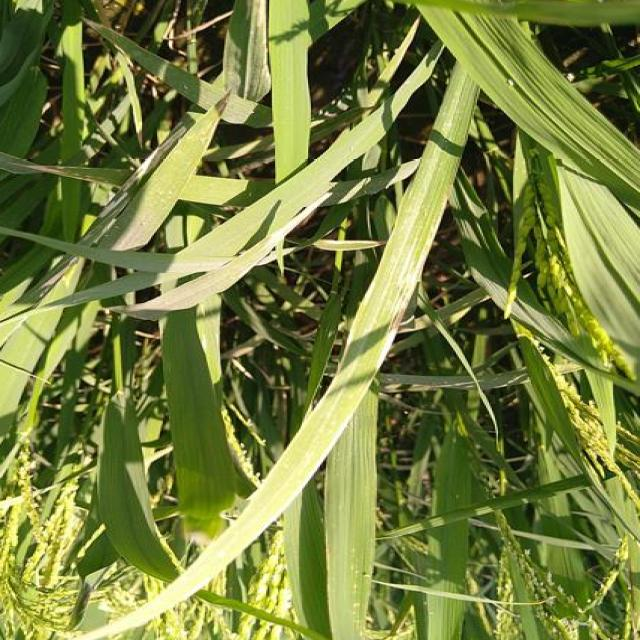Leaf Streak: (371, 187, 452, 376), (99, 126, 185, 218), (22, 164, 130, 186), (37, 255, 78, 303)
